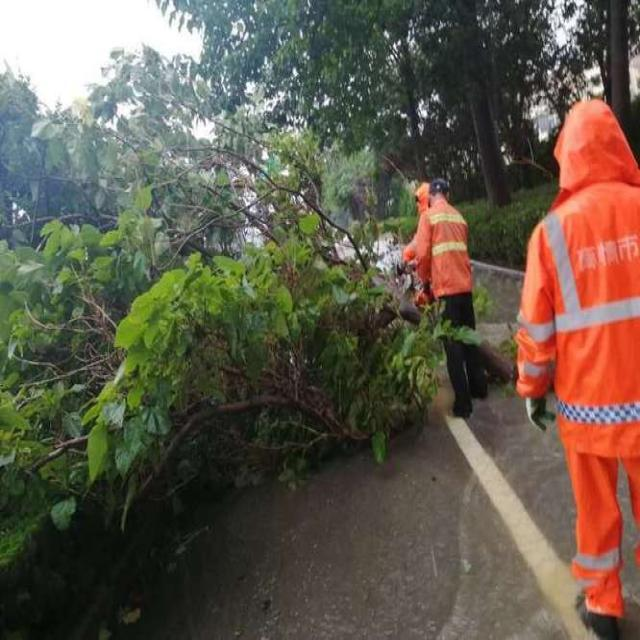fallen_object: (26, 92, 529, 472)
